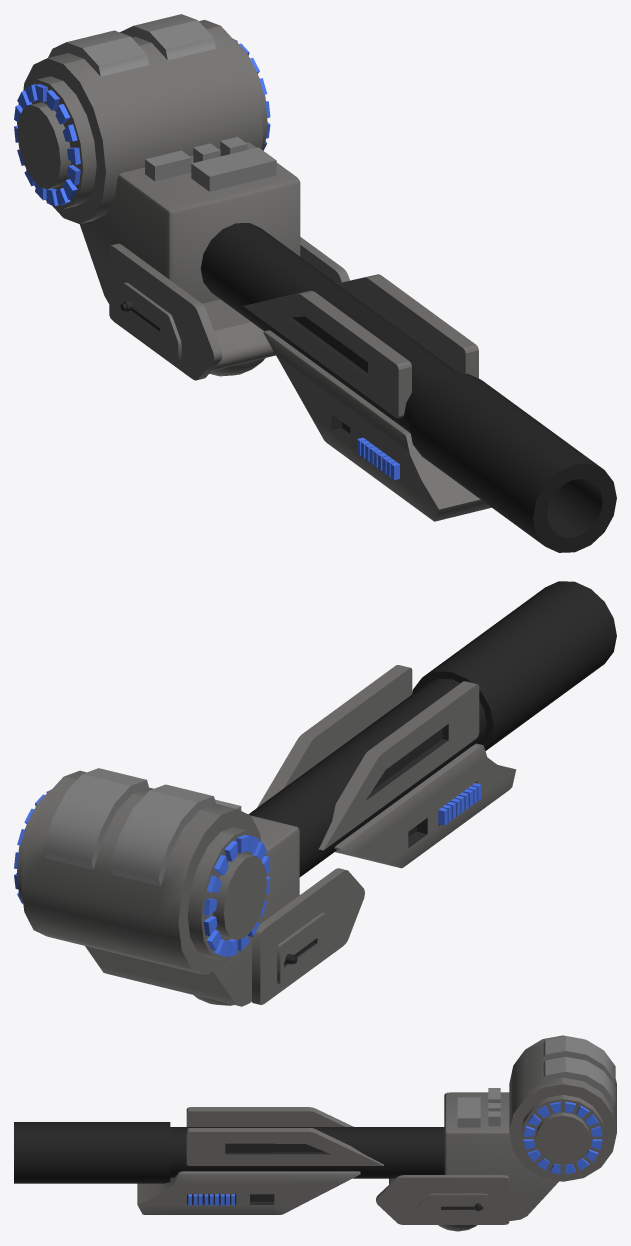
The model's file is RobotPlayer_Gun.fbx.
3 renders of one model, top to bottom at view 1: azimuth 30°, elevation 25°; view 2: azimuth 150°, elevation 25°; view 3: azimuth 270°, elevation 25°, orthographic. The views are drawn at different scales.
Parts seen in each view (by area): view 1: Gun; view 2: Gun; view 3: Gun.
Part boxes in pixels (box(x1,y1,x2,y2)): Gun: box(14, 14, 616, 552); Gun: box(14, 581, 616, 1006); Gun: box(14, 1035, 616, 1231).
Size of the model in its own units: 37.55 by 47.85 by 150.
